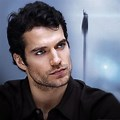person: (10, 3, 72, 88)
